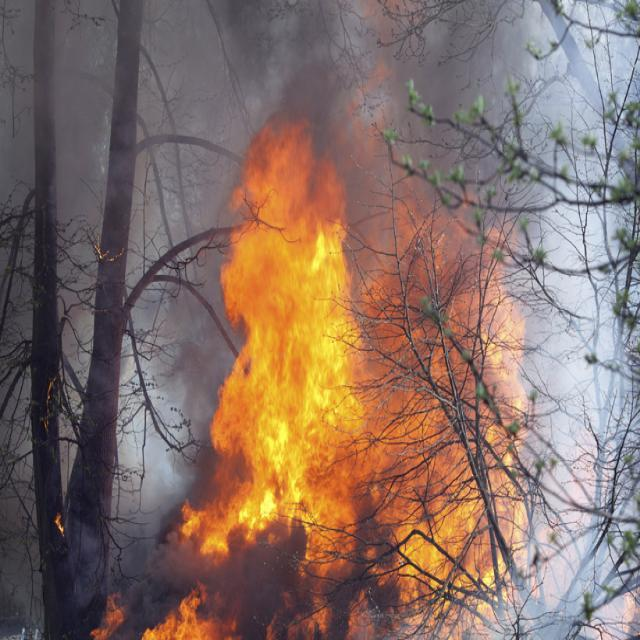Fire: (166, 95, 397, 566), (353, 161, 540, 640), (140, 579, 247, 640), (90, 590, 130, 640), (53, 504, 70, 538)
Smoke: (227, 0, 397, 278)
